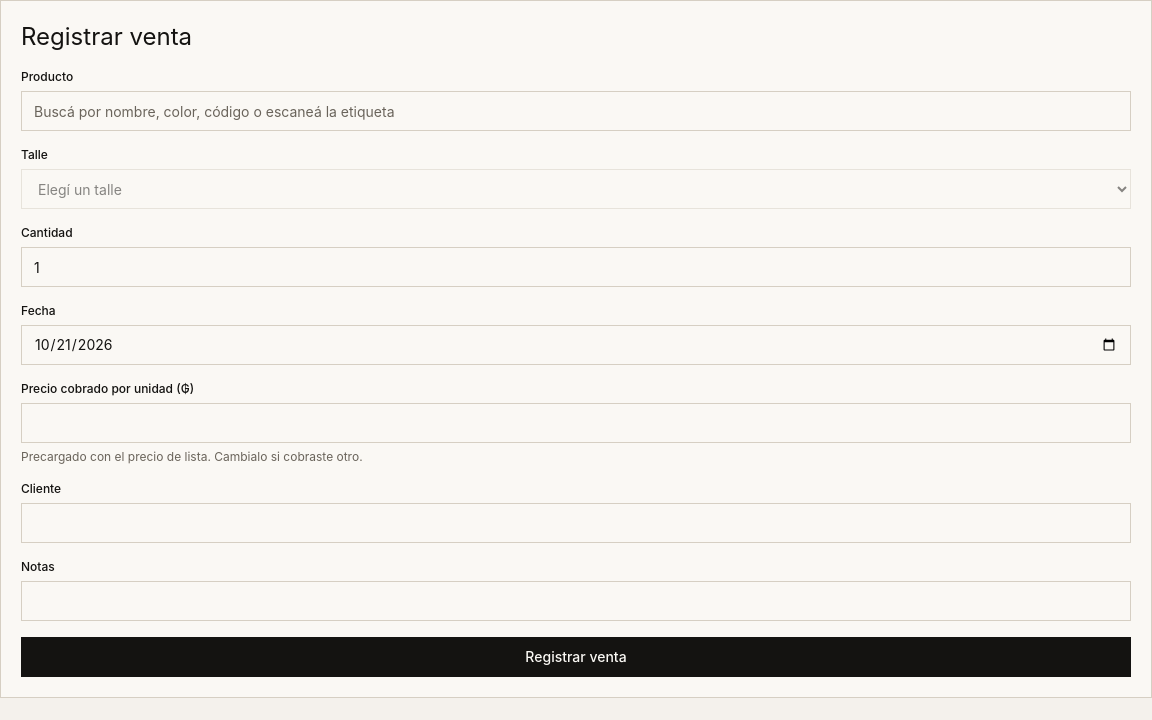
Test: SaleForm › suggests the discounted price with its percent and the original price
The width and height of the screenshot is (1152, 720).
Type "rojo" into the dropdown labelled "Producto" at point(576, 111), box [21,91,1131,131]
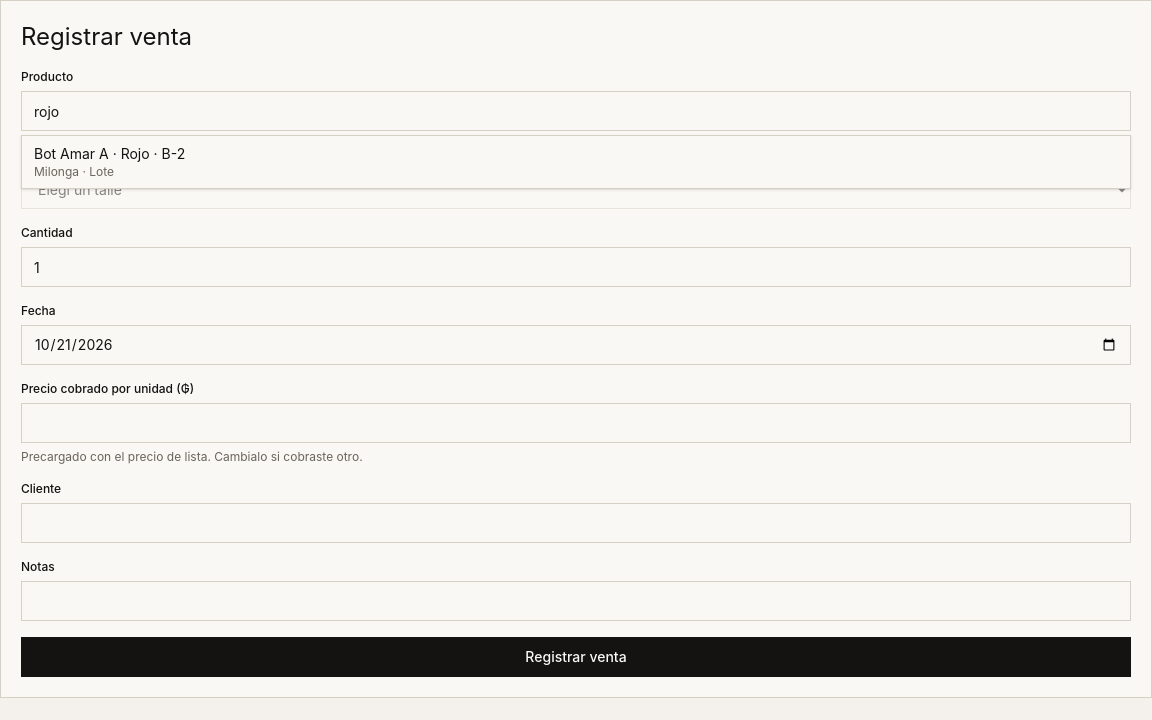
Click the option "Bot Amar A · Rojo · B-2 Milonga · Lote" at point(110, 162), box [34,145,185,179]
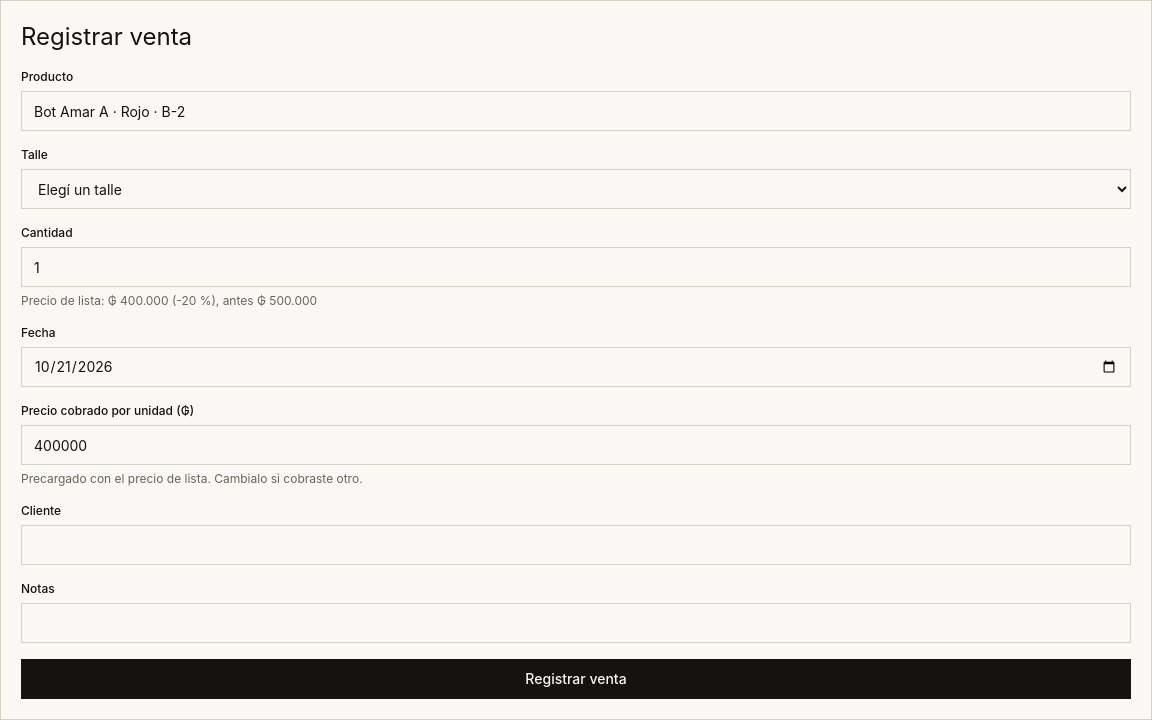
Now the text "Precio de lista: ₲ 400.000 (-20 %), antes ₲ 500.000" is shown, box [21,293,317,308]
